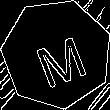M_N: (26, 22, 88, 86)
